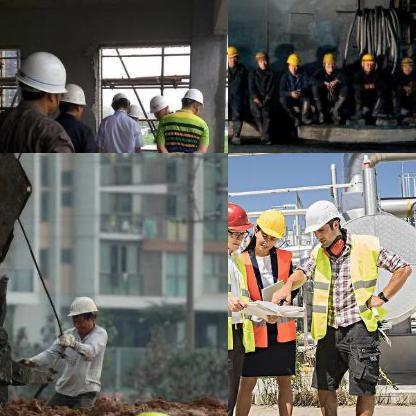Helmet: (11, 44, 70, 114), (300, 191, 344, 257), (248, 202, 288, 249), (228, 191, 255, 252), (58, 78, 90, 124), (65, 292, 99, 332), (180, 81, 204, 117), (148, 93, 170, 120), (110, 90, 128, 114), (358, 50, 376, 72), (320, 49, 336, 73), (125, 101, 141, 124), (286, 50, 300, 76), (253, 48, 269, 70), (398, 53, 412, 75), (228, 41, 239, 67)
